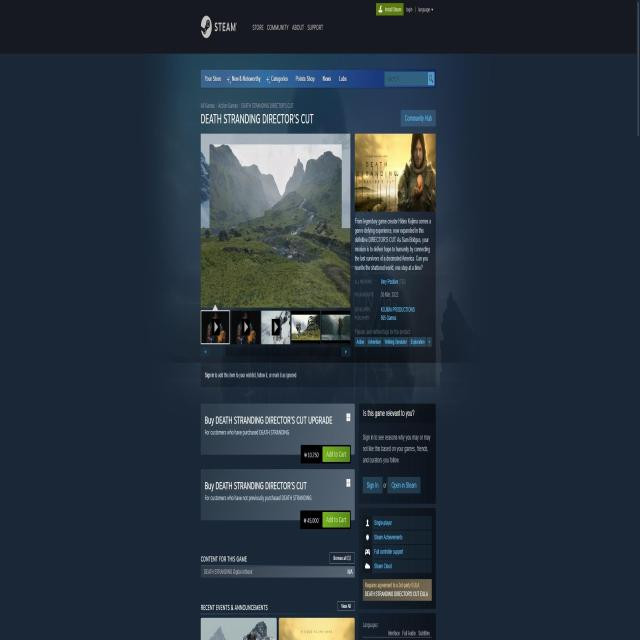button: (402, 109, 436, 126), (375, 2, 403, 17)
input: (385, 71, 428, 86)
select: (416, 2, 435, 17)
